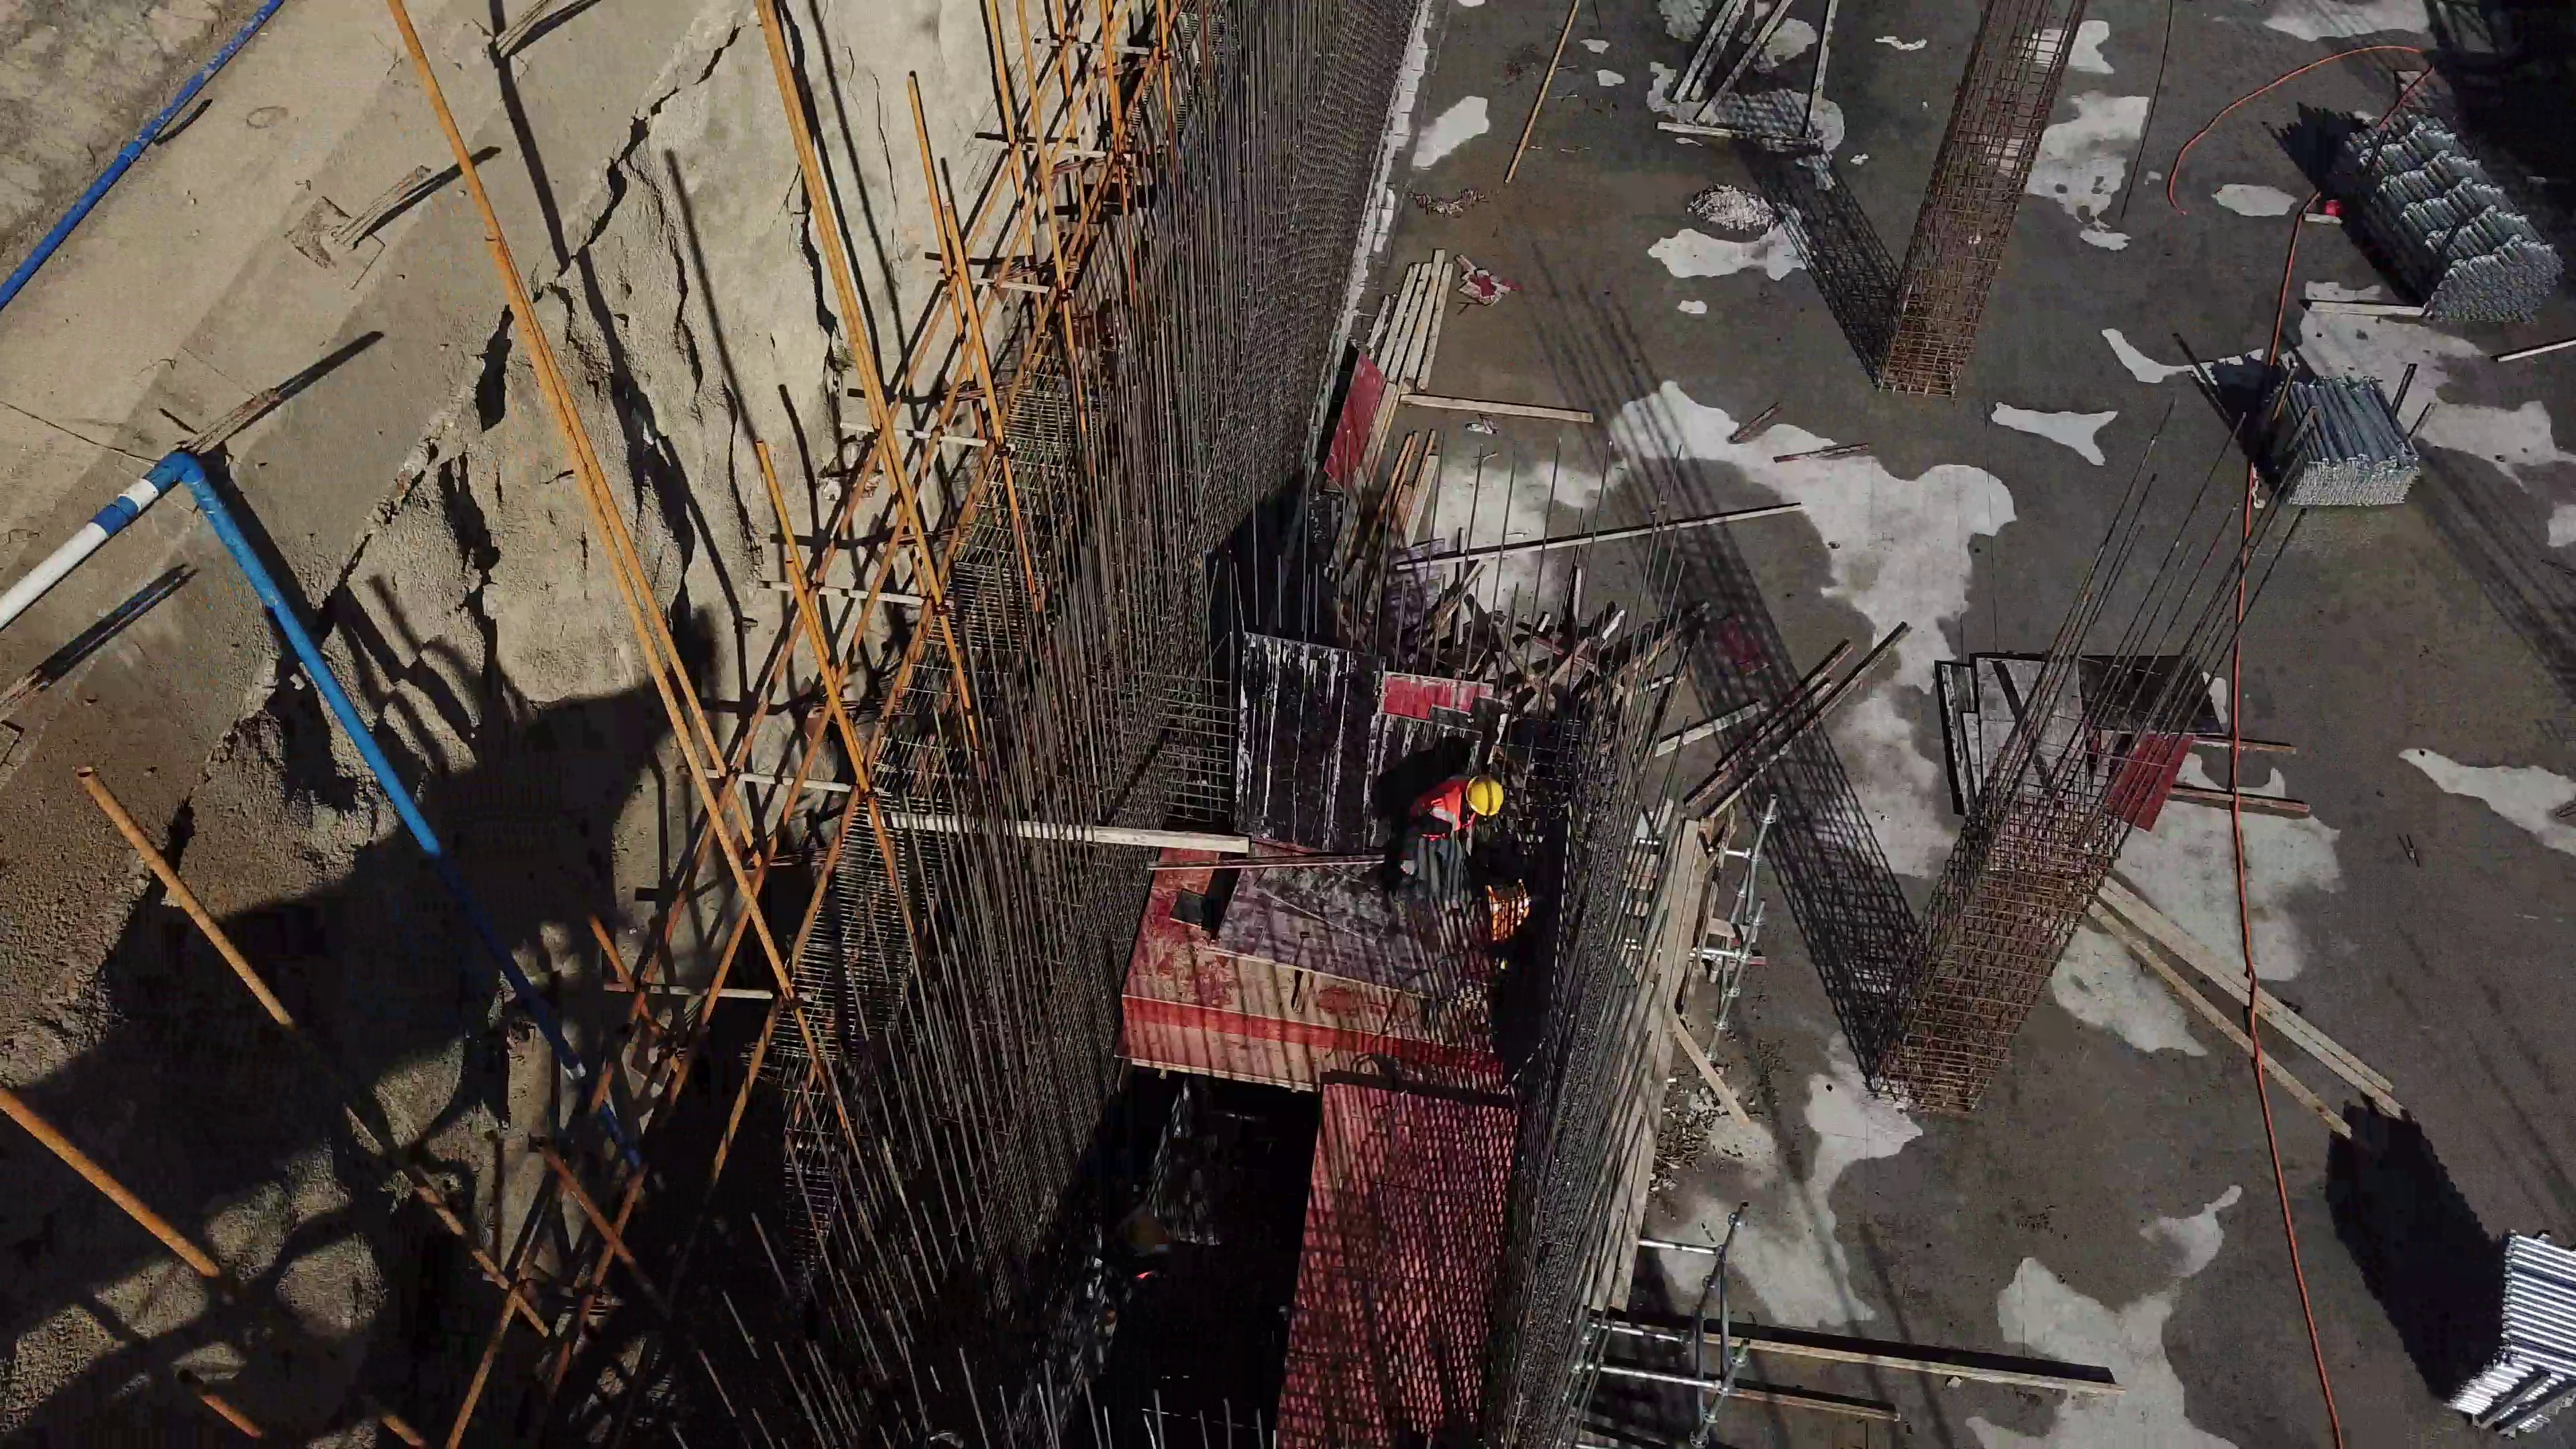helmet: (1464, 778, 1500, 818)
person: (1389, 773, 1505, 913)
scaffold: (2330, 121, 2553, 335), (2245, 365, 2432, 537), (2427, 1223, 2576, 1438)
vest: (1401, 777, 1469, 843)
